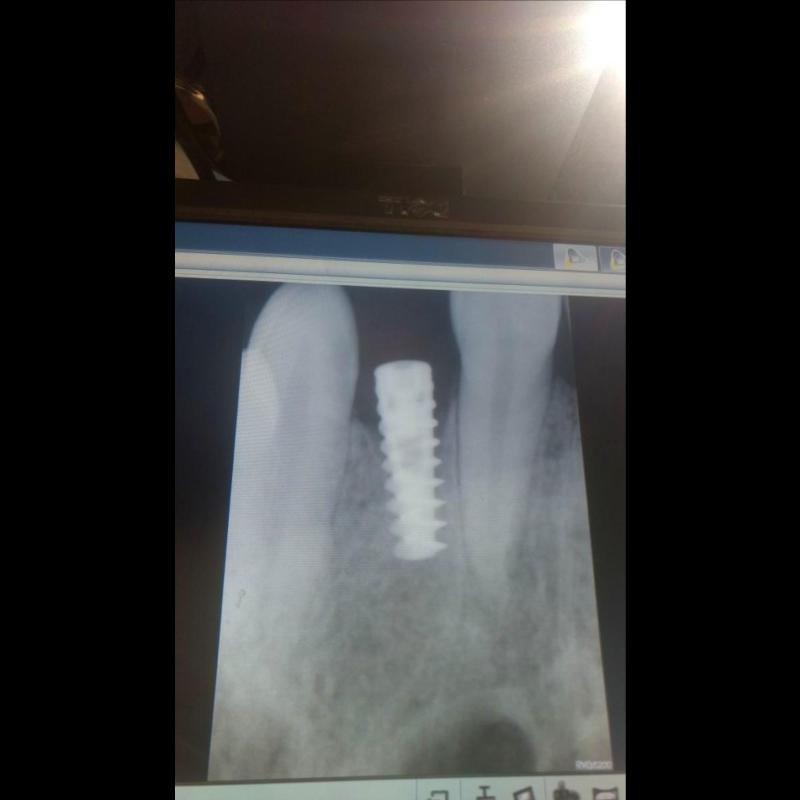ADIN: (360, 337, 460, 583)
